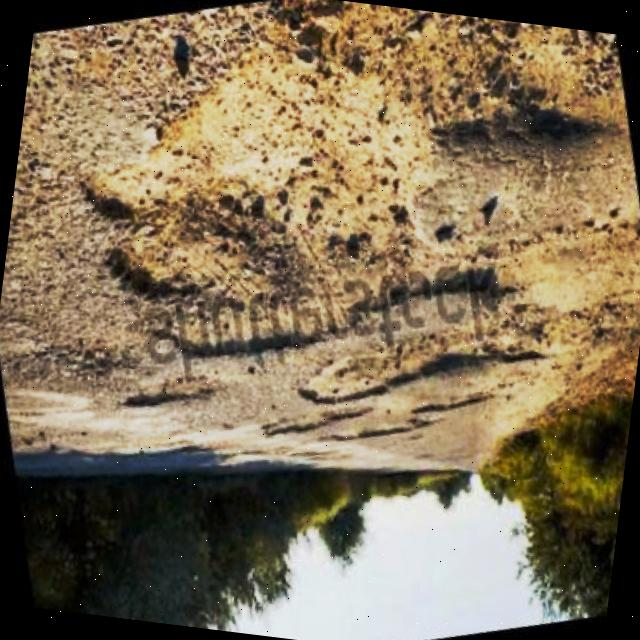pothole: (66, 0, 640, 411), (304, 291, 550, 428), (262, 396, 370, 448), (124, 362, 223, 418), (414, 383, 501, 424)
